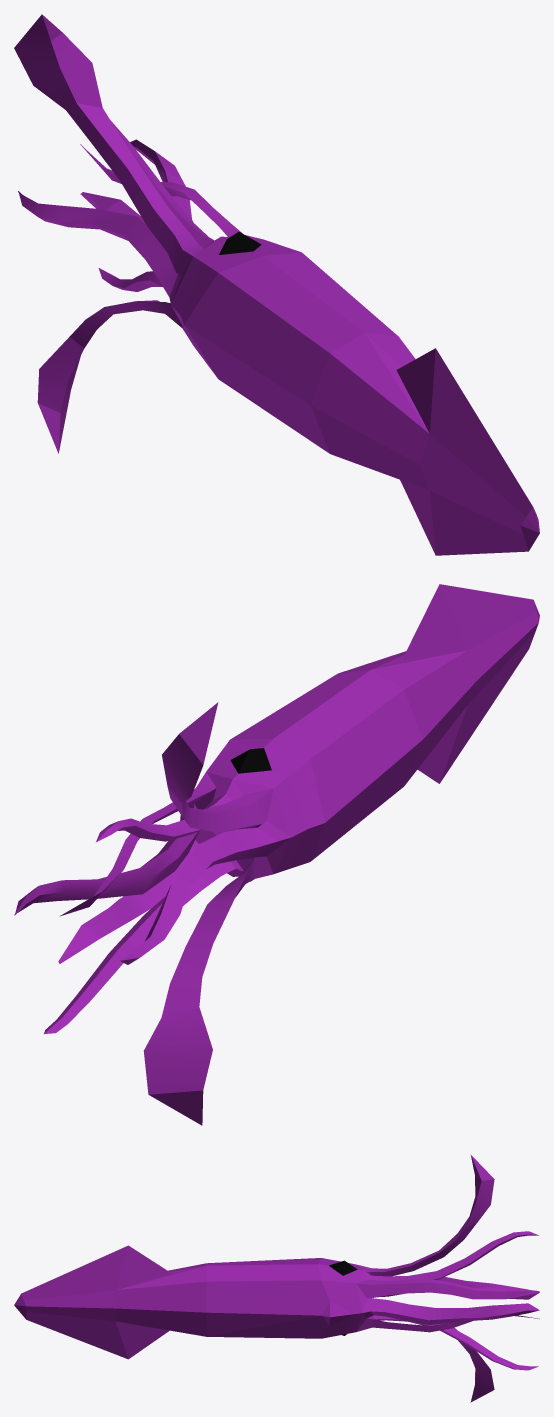
File: Squid_01.gltf
3 renders of one model, top to bottom at view 1: azimuth 30°, elevation 25°; view 2: azimuth 150°, elevation 25°; view 3: azimuth 270°, elevation 25°, orthographic. The views are drawn at different scales.
Visible parts, largest first — view 1: node-0; view 2: node-0; view 3: node-0.
Part boxes in pixels (x1,y1,x2,y2): node-0: [14, 14, 539, 555]; node-0: [14, 584, 539, 1125]; node-0: [14, 1155, 539, 1402].
Bounding box in the file's own units: 35.48 × 89.09 × 174.
